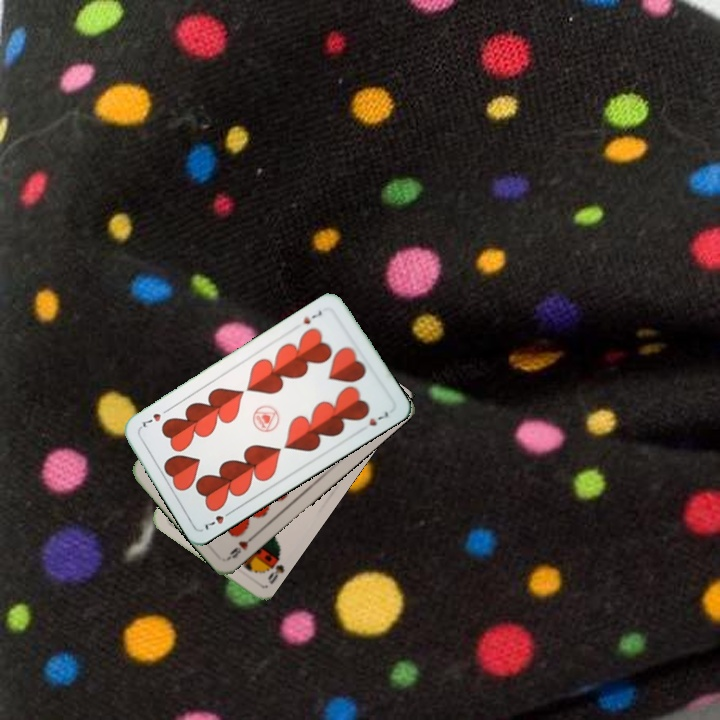H7: (200, 506, 236, 532), (299, 306, 325, 327)
H9: (224, 531, 258, 562)
SO: (262, 548, 287, 587)
